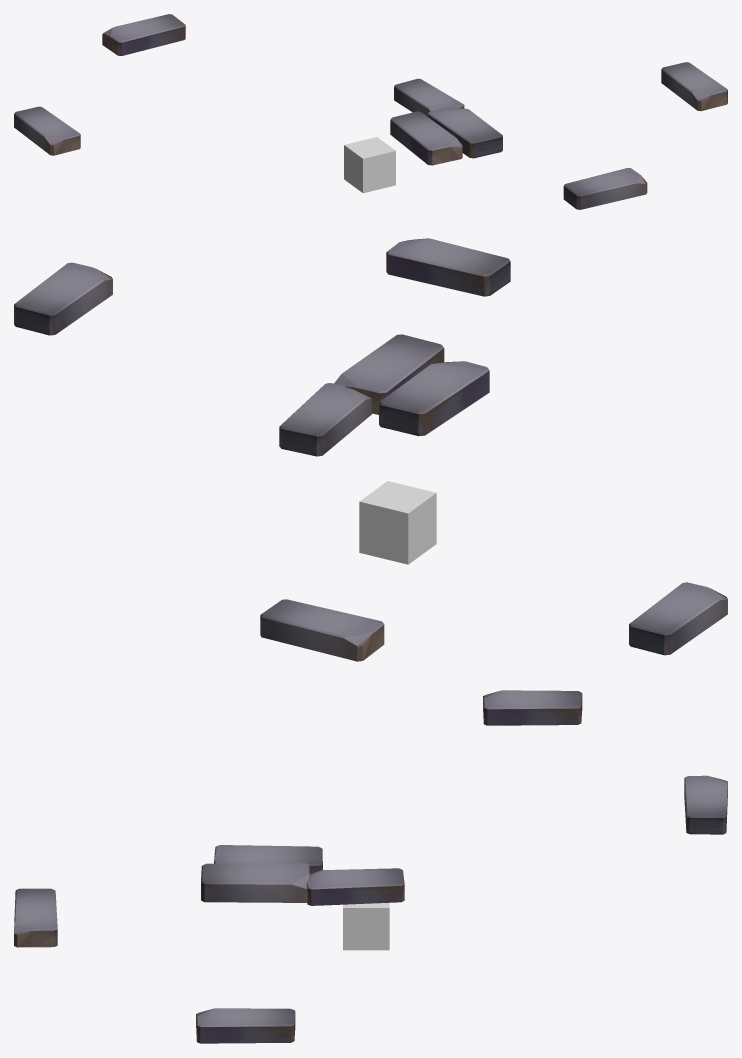
Rendered from battlescence-4-floor013.fbx.
3 views of the same model, one above another, from view 1: azimuth 30°, elevation 25°; view 2: azimuth 150°, elevation 25°; view 3: azimuth 270°, elevation 25° (orthographic). The views are drawn at different scales.
Visible parts, largest first — view 1: Cube.075, battlescence-4-floor013, Cube.096, Cube.077, Cube.092, Cube.099, Cube.102, Cube.076; view 2: Cube.075, battlescence-4-floor013, Cube.077, Cube.096, Cube.102, Cube.099, Cube.076, Cube.092; view 3: Cube.092, Cube.102, Cube.099, Cube.076, Cube.096, Cube.077, battlescence-4-floor013, Cube.075.
Part boxes in pixels (<box>): Cube.075: <box>390,111,462,165</box>; battlescence-4-floor013: <box>344,137,395,193</box>; Cube.096: <box>563,168,647,209</box>; Cube.077: <box>102,14,185,55</box>; Cube.092: <box>427,107,502,158</box>; Cube.099: <box>14,106,80,155</box>; Cube.102: <box>661,62,727,111</box>; Cube.076: <box>394,78,464,116</box>; Cube.075: <box>379,361,489,436</box>; battlescence-4-floor013: <box>359,481,436,564</box>; Cube.077: <box>260,599,384,661</box>; Cube.096: <box>386,238,510,296</box>; Cube.102: <box>14,262,112,335</box>; Cube.099: <box>629,582,727,655</box>; Cube.076: <box>279,383,372,456</box>; Cube.092: <box>334,334,444,414</box>; Cube.092: <box>201,862,309,902</box>; Cube.102: <box>196,1008,295,1043</box>; Cube.099: <box>483,690,582,725</box>; Cube.076: <box>306,868,404,905</box>; Cube.096: <box>14,888,57,947</box>; Cube.077: <box>684,775,727,834</box>; battlescence-4-floor013: <box>343,902,389,950</box>; Cube.075: <box>214,845,322,873</box>.
Size of the model in its own units: 2108 by 286 by 1888.
